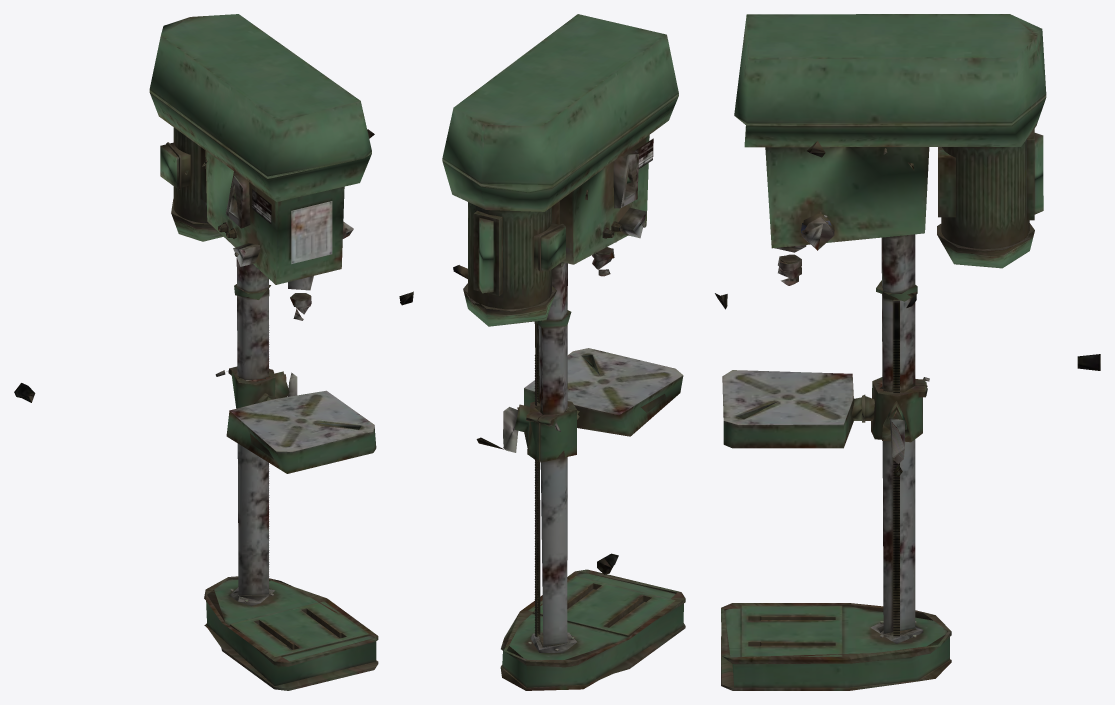
File: old_drill_press.glb
The picture shows the model from 3 angles, left to right: view 1: azimuth 30°, elevation 25°; view 2: azimuth 150°, elevation 25°; view 3: azimuth 270°, elevation 25°; orthographic projection. The views are drawn at different scales.
Parts seen in each view (by area): view 1: old_drill_press_cable; view 2: old_drill_press_cable; view 3: old_drill_press_cable.
Boxes of the visible parts, box(x1,y1,x2,y2) form: old_drill_press_cable: box(14, 14, 413, 690); old_drill_press_cable: box(442, 14, 685, 690); old_drill_press_cable: box(715, 14, 1100, 690).
Size of the model in its own units: 0.4573 by 1.05 by 0.5871.
Materials: 1 (1 with a texture image).
